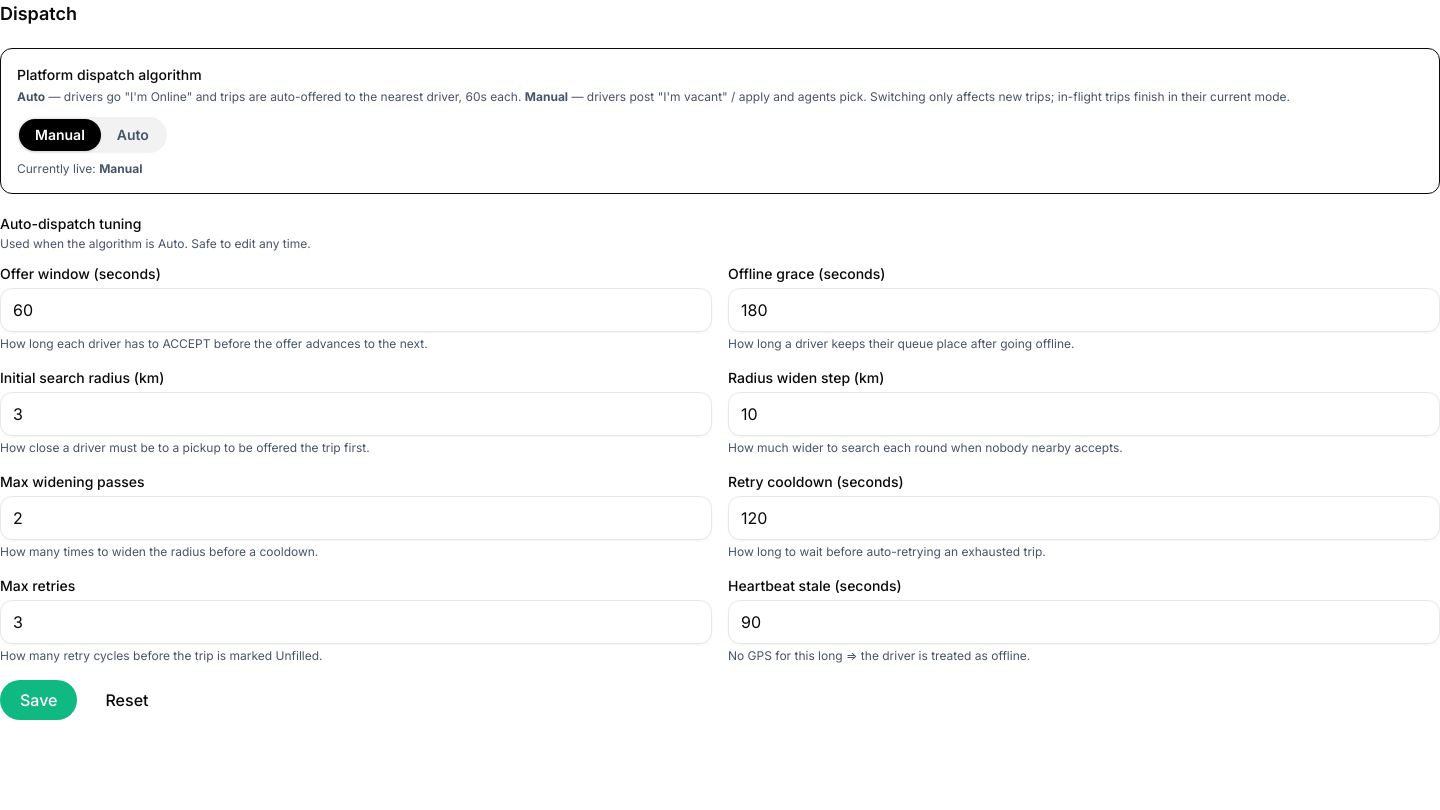
Test: DispatchSettingsForm › clicking the inactive algorithm opens a confirm dialog (does not switch immediately)
This screenshot has width=1440, height=810.
Click the button "auto".
click(133, 135)  # box [101,119,165,151]
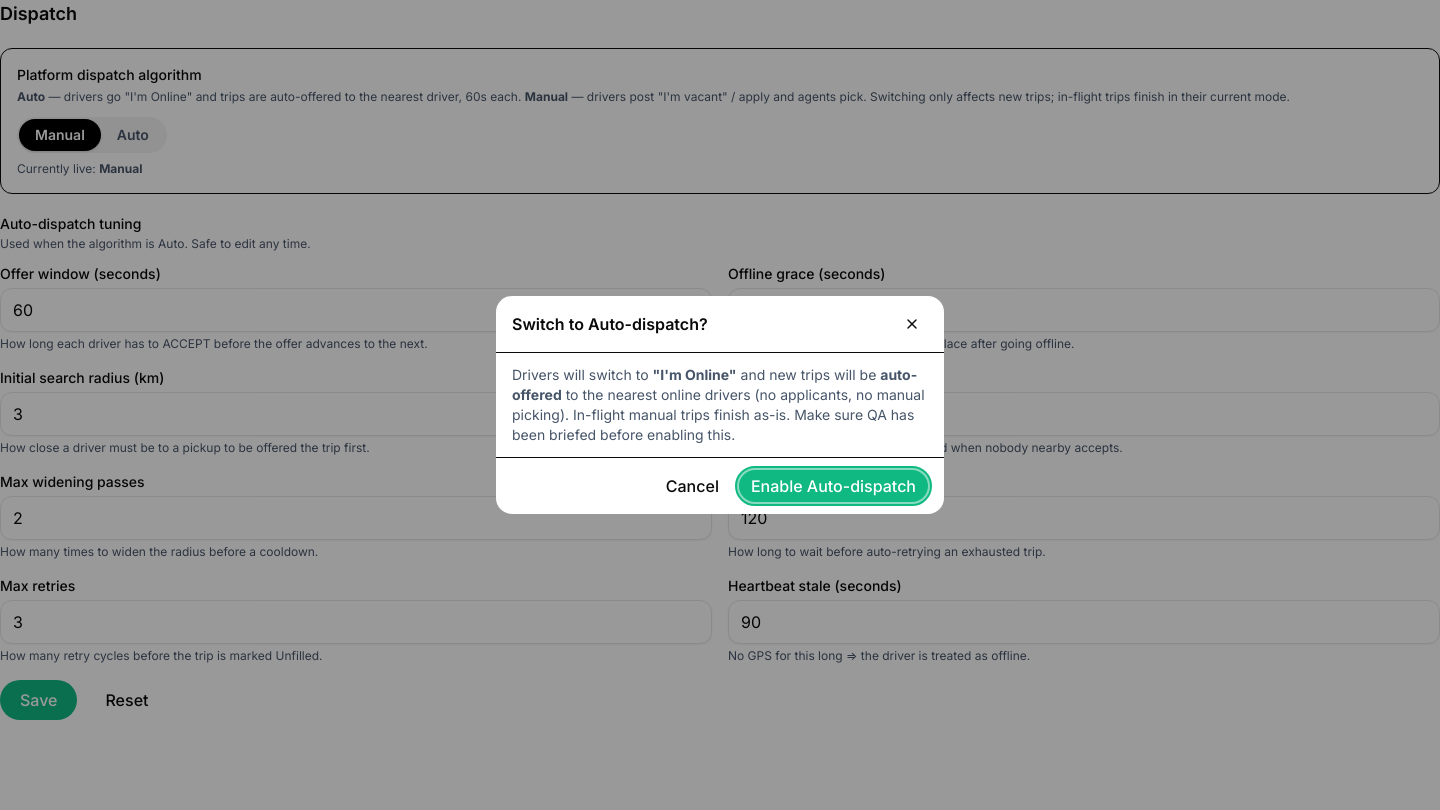
Expected: the text "qa has been briefed" is shown, [512,386,925,443]
